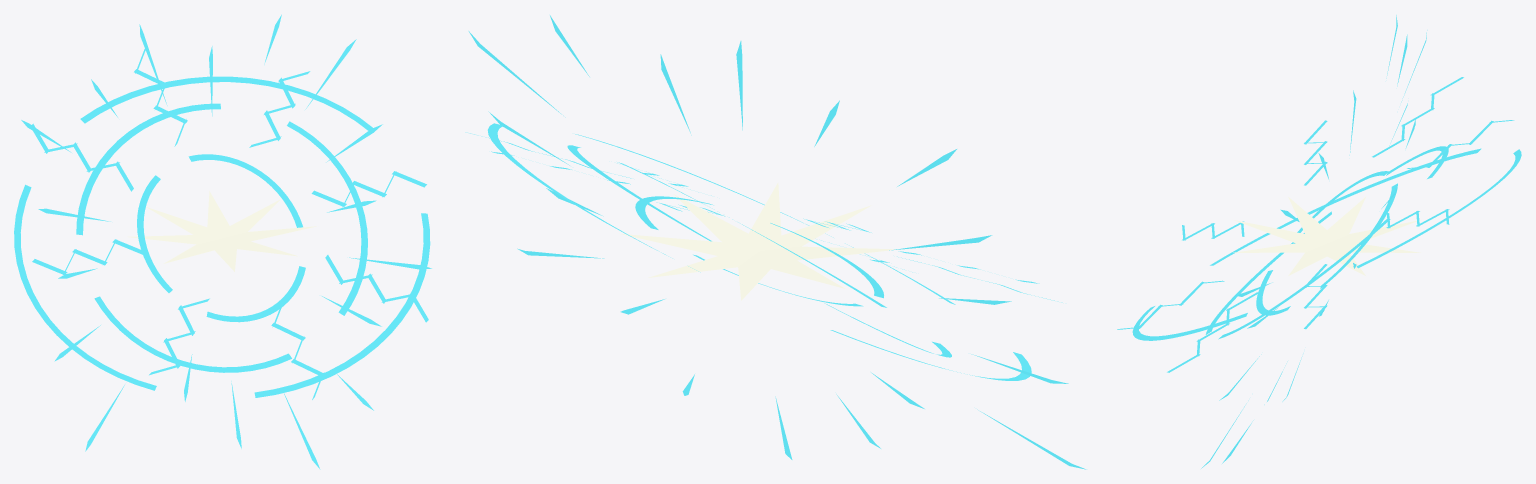
Rendered from tennis.glb.
3 views of the same model, side by side, from view 1: azimuth 30°, elevation 25°; view 2: azimuth 150°, elevation 25°; view 3: azimuth 270°, elevation 25° (orthographic). The views are drawn at different scales.
Parts seen in each view (by area): view 1: OrbitRibbons.001, Core.001, SparkRays.001; view 2: Core.001, OrbitRibbons.001, SparkRays.001; view 3: OrbitRibbons.001, Core.001, SparkRays.001.
Boxes of the visible parts, x1=… form: OrbitRibbons.001: x1=14, y1=49, x2=430, y2=399; Core.001: x1=127, y1=191, x2=316, y2=271; SparkRays.001: x1=21, y1=14, x2=431, y2=469; Core.001: x1=619, y1=182, x2=895, y2=300; OrbitRibbons.001: x1=465, y1=123, x2=1062, y2=380; SparkRays.001: x1=468, y1=15, x2=1086, y2=469; OrbitRibbons.001: x1=1117, y1=77, x2=1521, y2=372; Core.001: x1=1233, y1=197, x2=1420, y2=275; SparkRays.001: x1=1201, y1=15, x2=1427, y2=468.
Size of the model in its own units: 0.2405 by 0.2291 by 0.2076.
